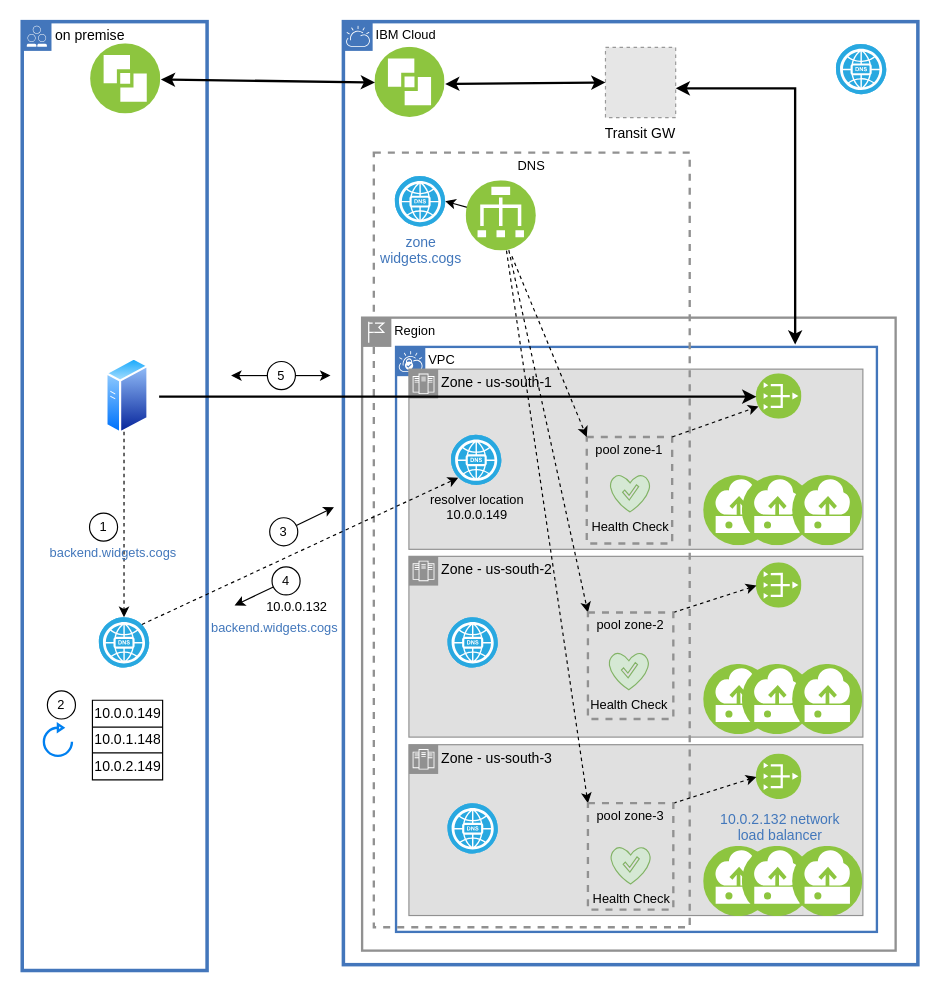
This 940x992 diagram has some shape labels left out. Grey dashed boxes stand in for pictures. Here are the shapes that lost their labels. From the top down, the centre of each, then its label:
At (x=125, y=78): "Direct Link support".
At (x=409, y=82): "Direct Link".
At (x=860, y=68): "DNS Services".
At (x=501, y=215): "GLB backend.widgets.cogs".
At (x=127, y=395): "client".
At (x=778, y=396): "10.0.0.132 network load balancer".
At (x=778, y=585): "10.0.1.132 network load balancer".
At (x=123, y=641): "DNS Resolver".
At (x=472, y=641): "resolver location 10.0.1.148".
At (x=57, y=739): "round robin".
At (x=472, y=828): "resolver location 10.0.2.149".
